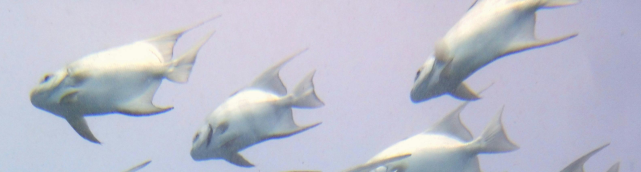fishRound: (29, 10, 219, 145), (190, 43, 327, 167), (408, 3, 579, 101), (360, 83, 521, 172)
